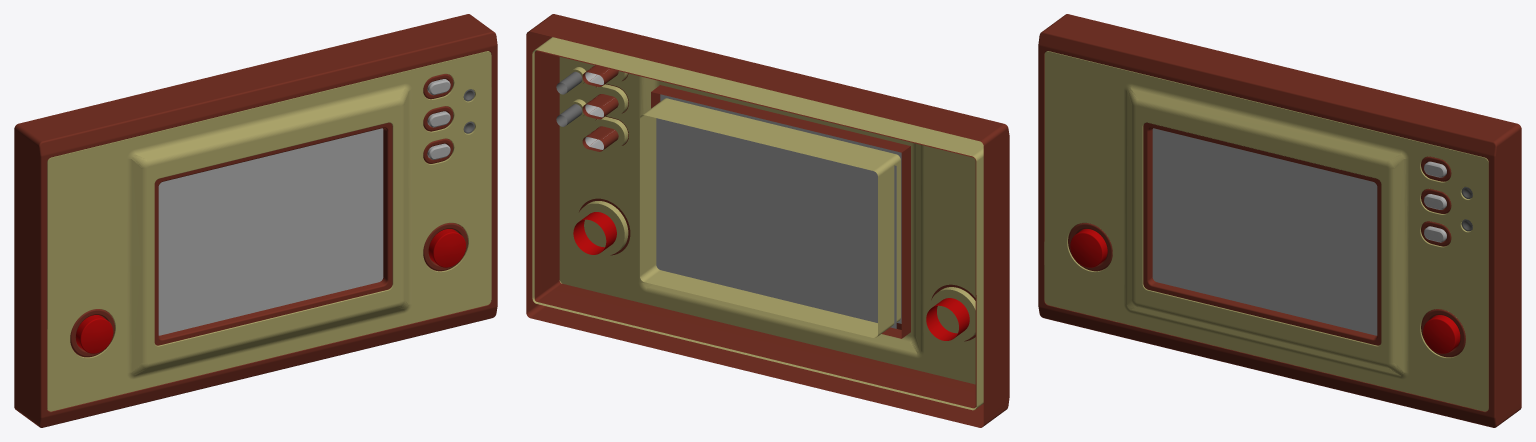
File: SM_Game&Watch_Battleships_1.0.fbx
The picture shows the model from 3 angles, left to right: view 1: azimuth 30°, elevation 25°; view 2: azimuth 150°, elevation 25°; view 3: azimuth 330°, elevation 25°; orthographic projection.
Parts seen in each view (by area): view 1: SM_Faceplate, SM_Shell, SM_ScreenFilm, SM_ScreenInset, SM_ButtonFrame, SM_RIGHT_Button, SM_LEFT_Button; view 2: SM_Faceplate, SM_Shell, SM_ScreenBackground, SM_ScreenInset, SM_ButtonFrame, SM_RIGHT_Button, SM_LEFT_Button, SM_ScreenFilm; view 3: SM_Faceplate, SM_Shell, SM_ScreenFilm, SM_ScreenInset, SM_ButtonFrame, SM_RIGHT_Button, SM_LEFT_Button.
Part boxes in pixels (<box>): SM_Faceplate: <box>47,51,491,411</box>; SM_Shell: <box>14,14,497,427</box>; SM_ScreenFilm: <box>158,128,383,335</box>; SM_ScreenInset: <box>154,122,392,345</box>; SM_ButtonFrame: <box>70,74,467,357</box>; SM_RIGHT_Button: <box>428,229,465,267</box>; SM_LEFT_Button: <box>76,315,113,353</box>; SM_Faceplate: <box>532,37,983,410</box>; SM_Shell: <box>526,14,1009,427</box>; SM_ScreenBackground: <box>656,118,896,328</box>; SM_ScreenInset: <box>651,85,910,338</box>; SM_ButtonFrame: <box>579,65,975,341</box>; SM_RIGHT_Button: <box>573,212,616,254</box>; SM_LEFT_Button: <box>926,298,969,340</box>; SM_ScreenFilm: <box>660,94,901,323</box>; SM_Faceplate: <box>1044,51,1488,411</box>; SM_Shell: <box>1038,14,1521,427</box>; SM_ScreenFilm: <box>1152,128,1377,335</box>; SM_ScreenInset: <box>1143,122,1381,345</box>; SM_ButtonFrame: <box>1068,156,1465,357</box>; SM_RIGHT_Button: <box>1423,315,1460,353</box>; SM_LEFT_Button: <box>1070,229,1107,267</box>.
Bounding box in the file's own units: 27.87 × 16.69 × 3.38.
